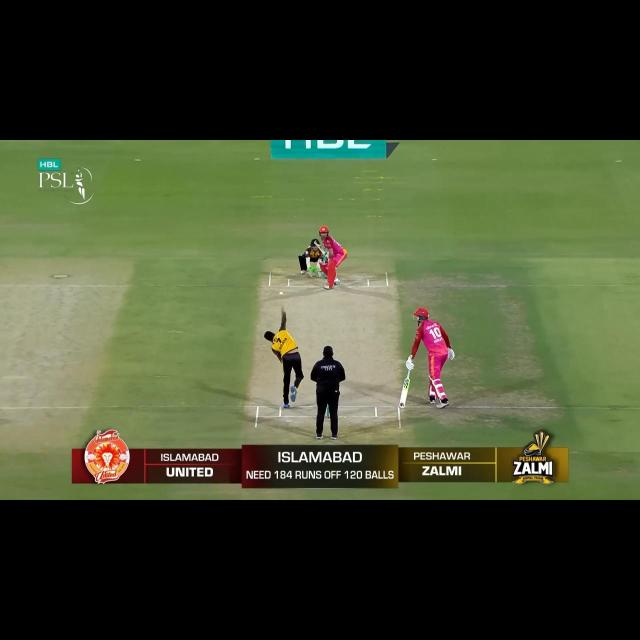bat: (399, 377, 410, 408), (314, 242, 325, 254)
toe: (399, 401, 406, 408), (313, 242, 318, 248)
